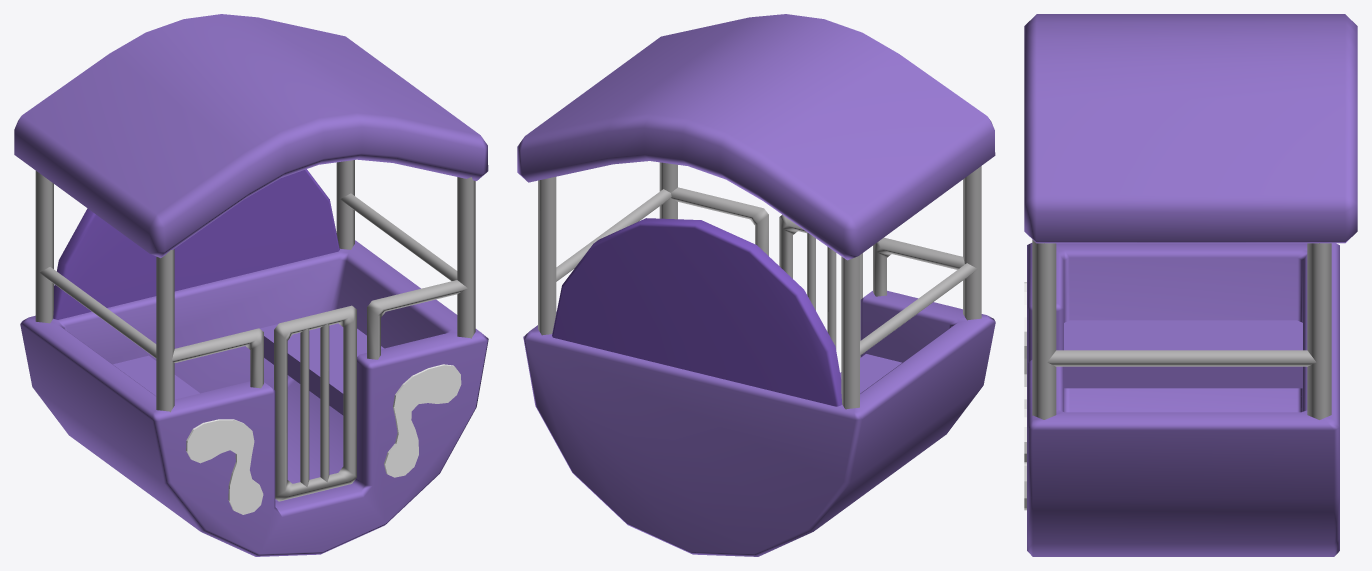
The model's file is attraction_8_002.gltf.
3 views of the same model, side by side, from view 1: azimuth 30°, elevation 25°; view 2: azimuth 150°, elevation 25°; view 3: azimuth 270°, elevation 25° (orthographic). The views are drawn at different scales.
Visible parts, largest first — view 1: attraction_8_002; view 2: attraction_8_002; view 3: attraction_8_002.
Boxes of the visible parts, x1=… form: attraction_8_002: x1=14, y1=14, x2=488, y2=556; attraction_8_002: x1=517, y1=14, x2=995, y2=556; attraction_8_002: x1=1024, y1=14, x2=1357, y2=556.
Size of the model in its own units: 2.36 by 2.9 by 1.76.
2 materials, 1 textured.
